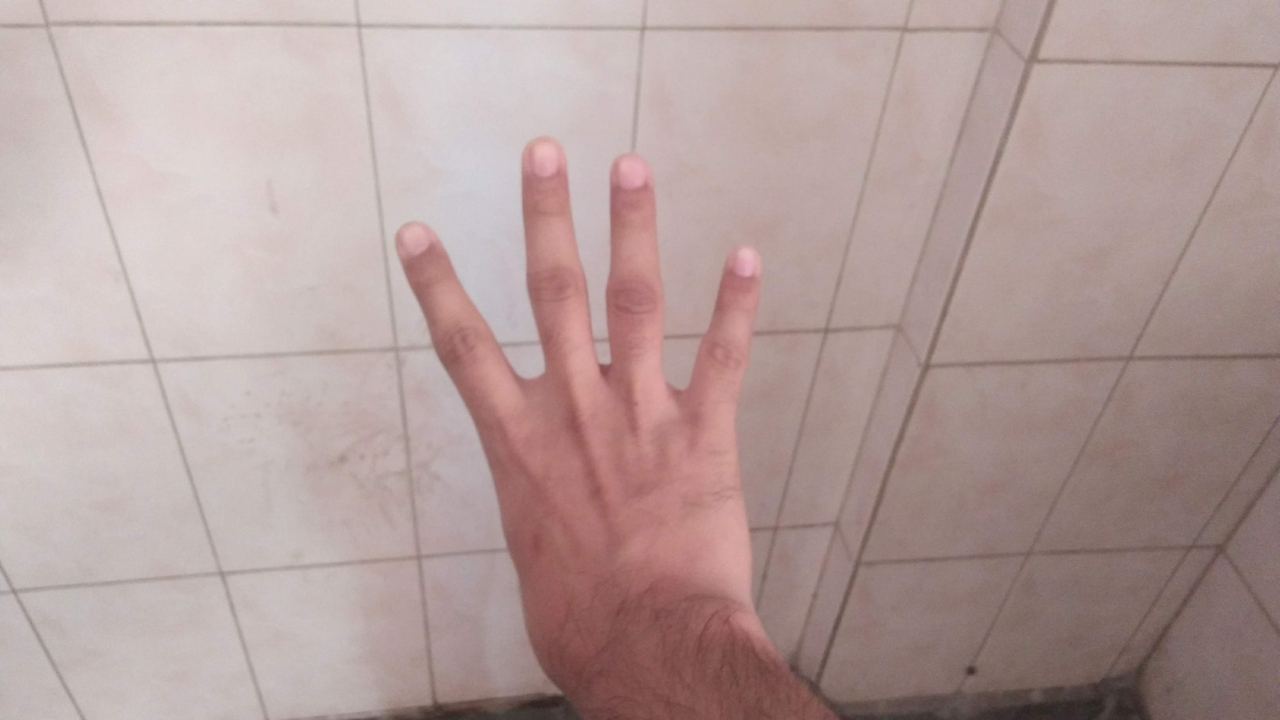fingertip: (382, 210, 450, 270), (516, 130, 576, 190), (602, 152, 660, 204), (718, 228, 770, 286)
